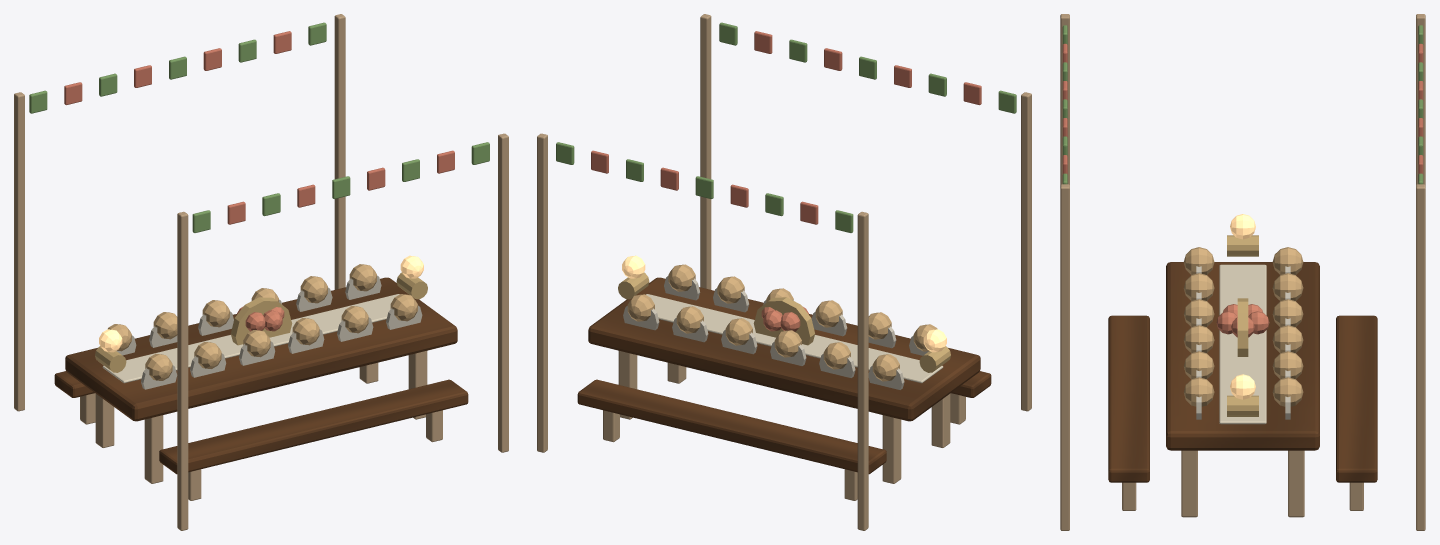
The model's file is shire_feast_craftwork.glb.
The picture shows the model from 3 angles, left to right: view 1: azimuth 30°, elevation 25°; view 2: azimuth 150°, elevation 25°; view 3: azimuth 270°, elevation 25°; orthographic projection. The views are drawn at different scales.
Visible parts, largest first — view 1: Crafted_oak_grain, Crafted_weathered_oak, Crafted_hand_baked_bread, Crafted_rough_stone, Crafted_garden_green, Crafted_festival_madder_cloth, Crafted_woven_linen, Crafted_brass_trims, Crafted_warm_lantern_glass, Crafted_orchard_red_apples; view 2: Crafted_oak_grain, Crafted_weathered_oak, Crafted_hand_baked_bread, Crafted_rough_stone, Crafted_garden_green, Crafted_woven_linen, Crafted_festival_madder_cloth, Crafted_brass_trims, Crafted_warm_lantern_glass, Crafted_orchard_red_apples; view 3: Crafted_oak_grain, Crafted_weathered_oak, Crafted_hand_baked_bread, Crafted_woven_linen, Crafted_brass_trims, Crafted_orchard_red_apples, Crafted_garden_green, Crafted_warm_lantern_glass, Crafted_festival_madder_cloth, Crafted_rough_stone.
Part boxes in pixels (box(x1,y1,x2,y2)): Crafted_oak_grain: box(54, 277, 468, 474); Crafted_weathered_oak: box(14, 14, 508, 530); Crafted_hand_baked_bread: box(108, 264, 417, 380); Crafted_rough_stone: box(116, 275, 422, 389); Crafted_garden_green: box(29, 22, 489, 232); Crafted_festival_madder_cloth: box(64, 31, 454, 224); Crafted_woven_linen: box(102, 294, 399, 383); Crafted_brass_trims: box(95, 272, 427, 372); Crafted_warm_lantern_glass: box(99, 255, 423, 352); Crafted_orchard_red_apples: box(237, 306, 284, 331); Crafted_oak_grain: box(577, 277, 991, 474); Crafted_weathered_oak: box(537, 14, 1031, 530); Crafted_hand_baked_bread: box(627, 264, 937, 381); Crafted_rough_stone: box(623, 276, 928, 389); Crafted_garden_green: box(556, 22, 1016, 232); Crafted_woven_linen: box(646, 294, 943, 383); Crafted_festival_madder_cloth: box(591, 31, 981, 224); Crafted_brass_trims: box(618, 272, 950, 372); Crafted_warm_lantern_glass: box(622, 255, 946, 352); Crafted_orchard_red_apples: box(761, 306, 808, 331); Crafted_oak_grain: box(1108, 262, 1377, 482); Crafted_weathered_oak: box(1060, 14, 1425, 530); Crafted_hand_baked_bread: box(1183, 247, 1303, 406); Crafted_woven_linen: box(1219, 264, 1266, 424); Crafted_brass_trims: box(1227, 235, 1258, 416); Crafted_orchard_red_apples: box(1216, 304, 1269, 337); Crafted_garden_green: box(1062, 25, 1423, 184); Crafted_warm_lantern_glass: box(1230, 214, 1255, 399); Crafted_festival_madder_cloth: box(1062, 43, 1423, 174); Crafted_rough_stone: box(1196, 266, 1290, 419).
Size of the model in its own units: 3.48 by 3.2 by 3.08.
10 materials, 1 textured.
